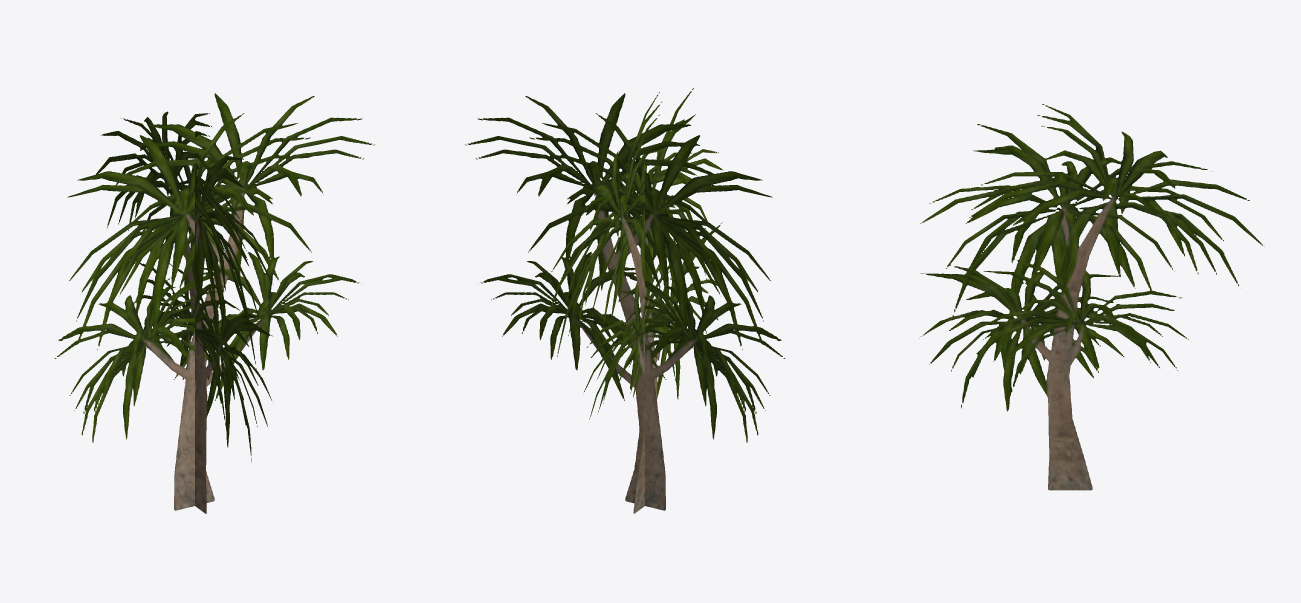
Rendered from dra_2s_LOD2.fbx.
The picture shows the model from 3 angles, left to right: view 1: azimuth 30°, elevation 25°; view 2: azimuth 150°, elevation 25°; view 3: azimuth 270°, elevation 25°; orthographic projection. The views are drawn at different scales.
Parts seen in each view (by area): view 1: dra_LOD2; view 2: dra_LOD2; view 3: dra_LOD2.
Part boxes in pixels (x1=…): dra_LOD2: x1=54, y1=93, x2=374, y2=513; dra_LOD2: x1=465, y1=88, x2=785, y2=513; dra_LOD2: x1=919, y1=104, x2=1264, y2=490.
Size of the model in its own units: 2600 by 2600 by 2600.
